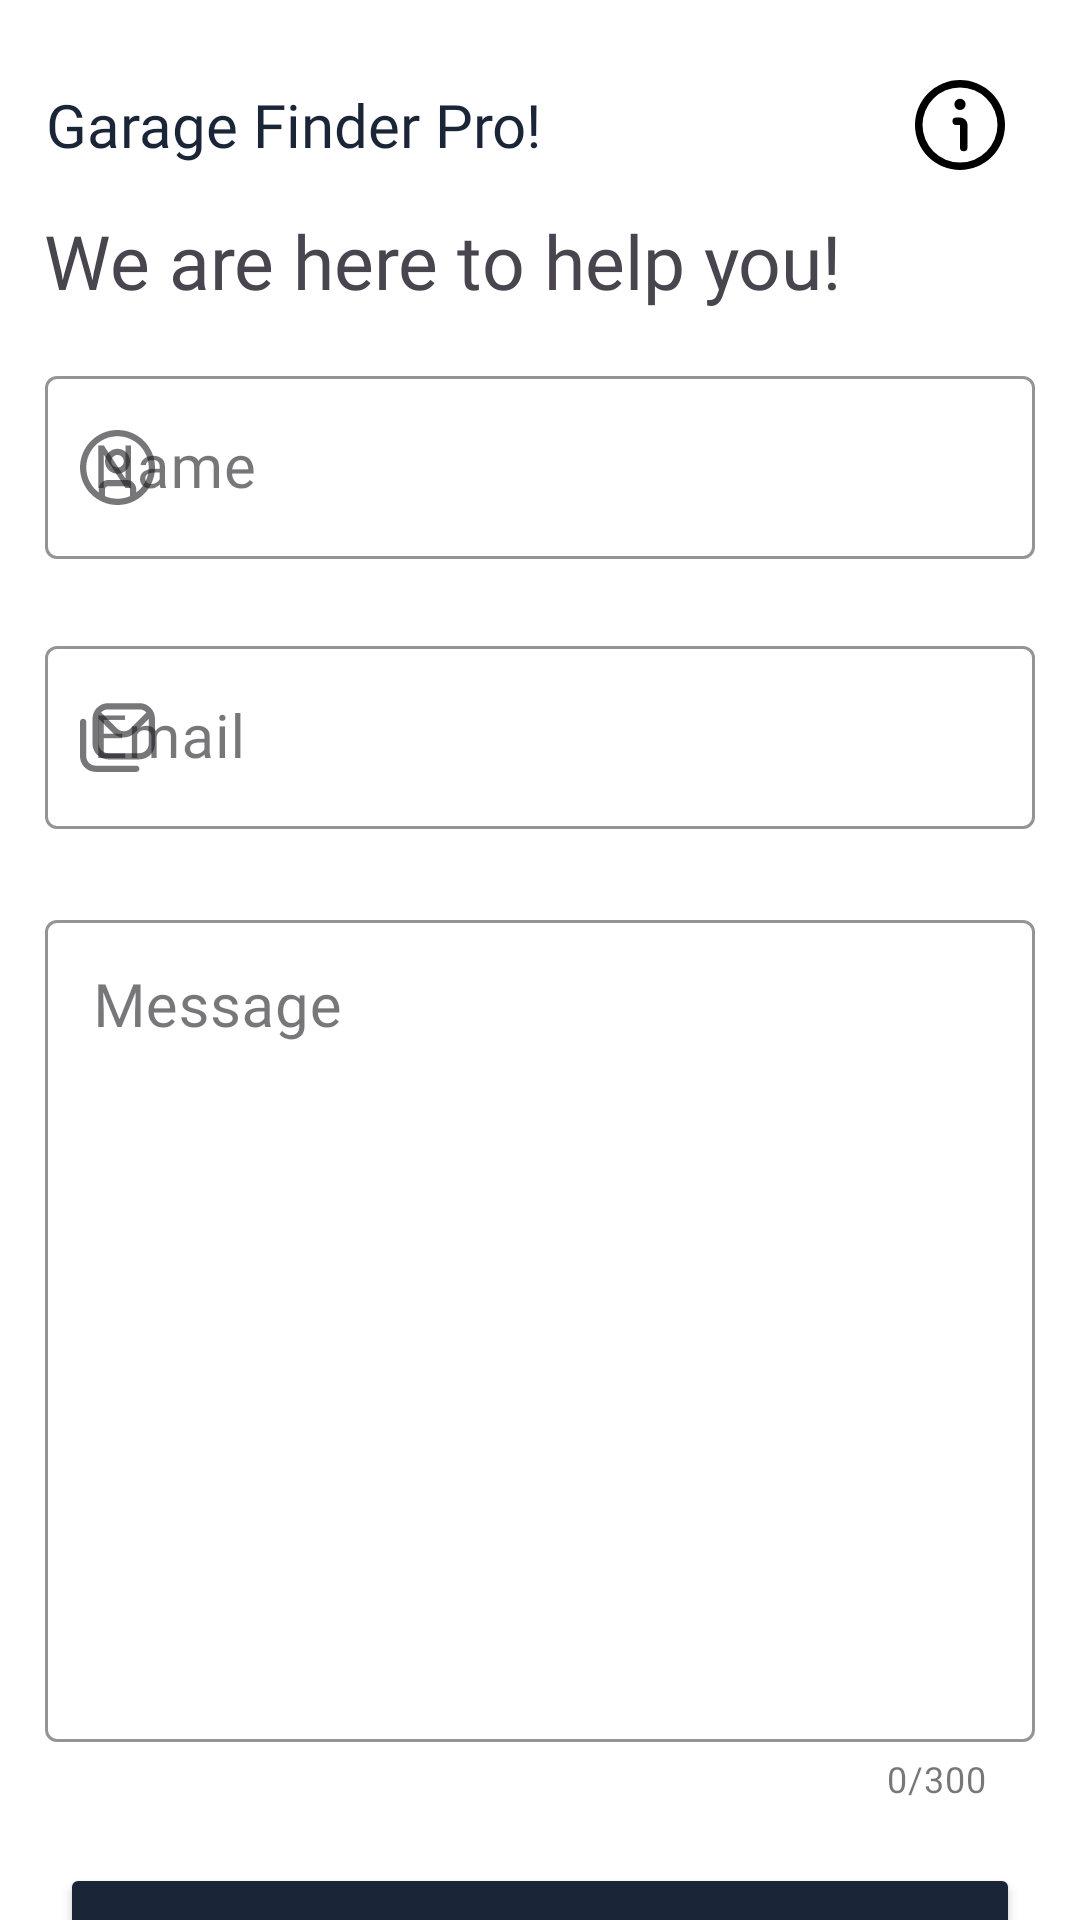

Point at icon controls on the screen. Image size 1080 x 1920, points as point (x, y).
info: point (960, 125)
